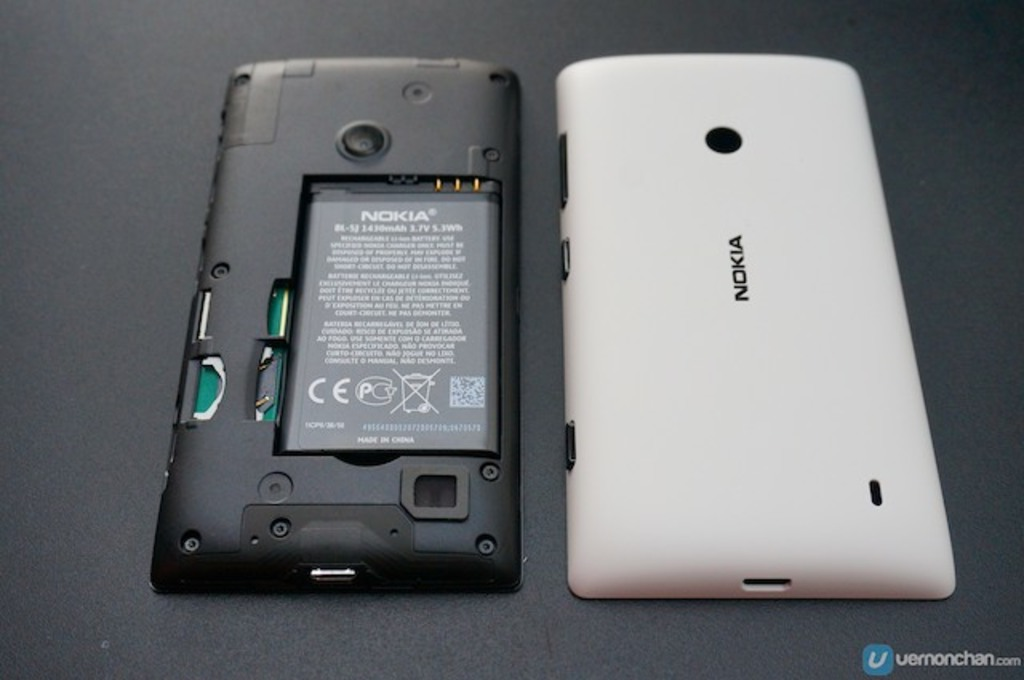mobile phone: (158, 33, 556, 601)
